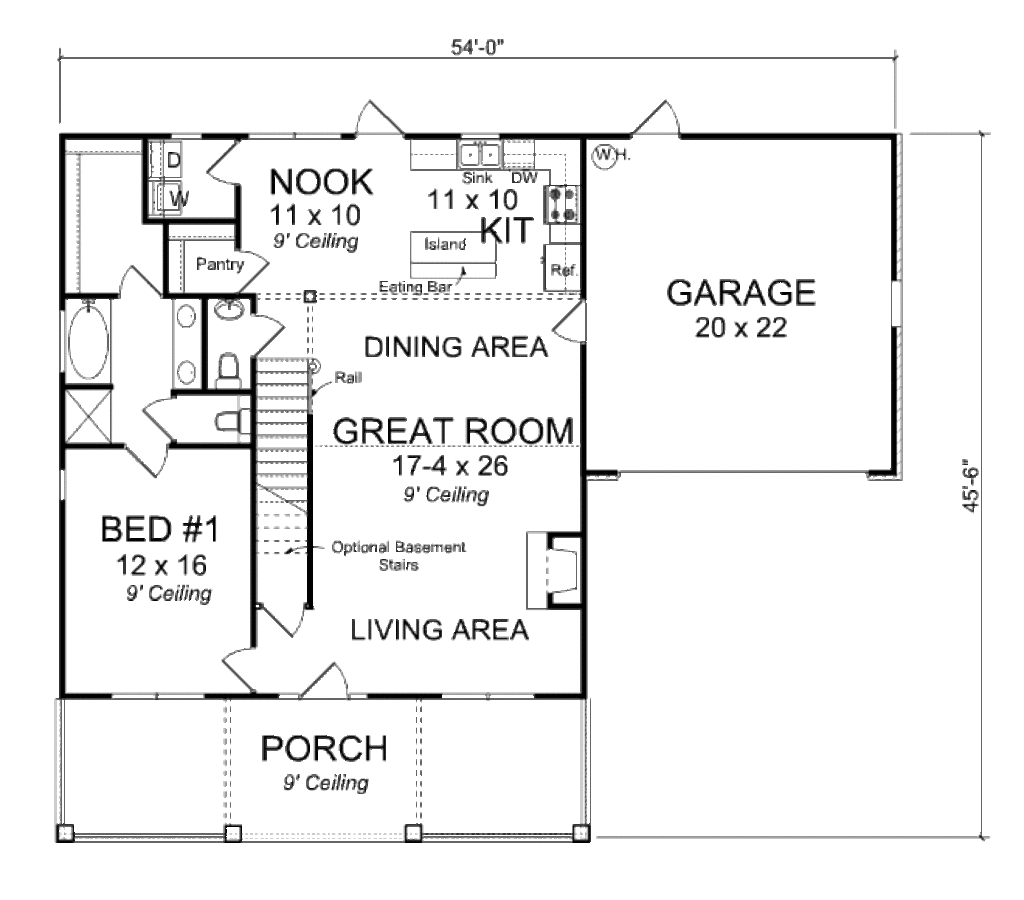door: (625, 89, 689, 148), (111, 257, 172, 304), (303, 659, 361, 708), (551, 287, 596, 347), (216, 640, 262, 698), (346, 86, 397, 137), (226, 243, 273, 298), (258, 593, 316, 637), (118, 439, 178, 480), (211, 136, 251, 189), (143, 393, 182, 441), (251, 311, 290, 355)
kitchen_bar: (403, 211, 505, 285)
large_sink: (201, 398, 253, 444), (205, 340, 244, 389)
small_sink: (169, 296, 200, 387), (204, 293, 251, 325)
stairs: (251, 353, 319, 590)
tub: (61, 293, 111, 391)
twin_sink: (451, 133, 514, 176)
window: (439, 687, 537, 704), (251, 128, 344, 144), (104, 690, 207, 703), (48, 466, 72, 504)
